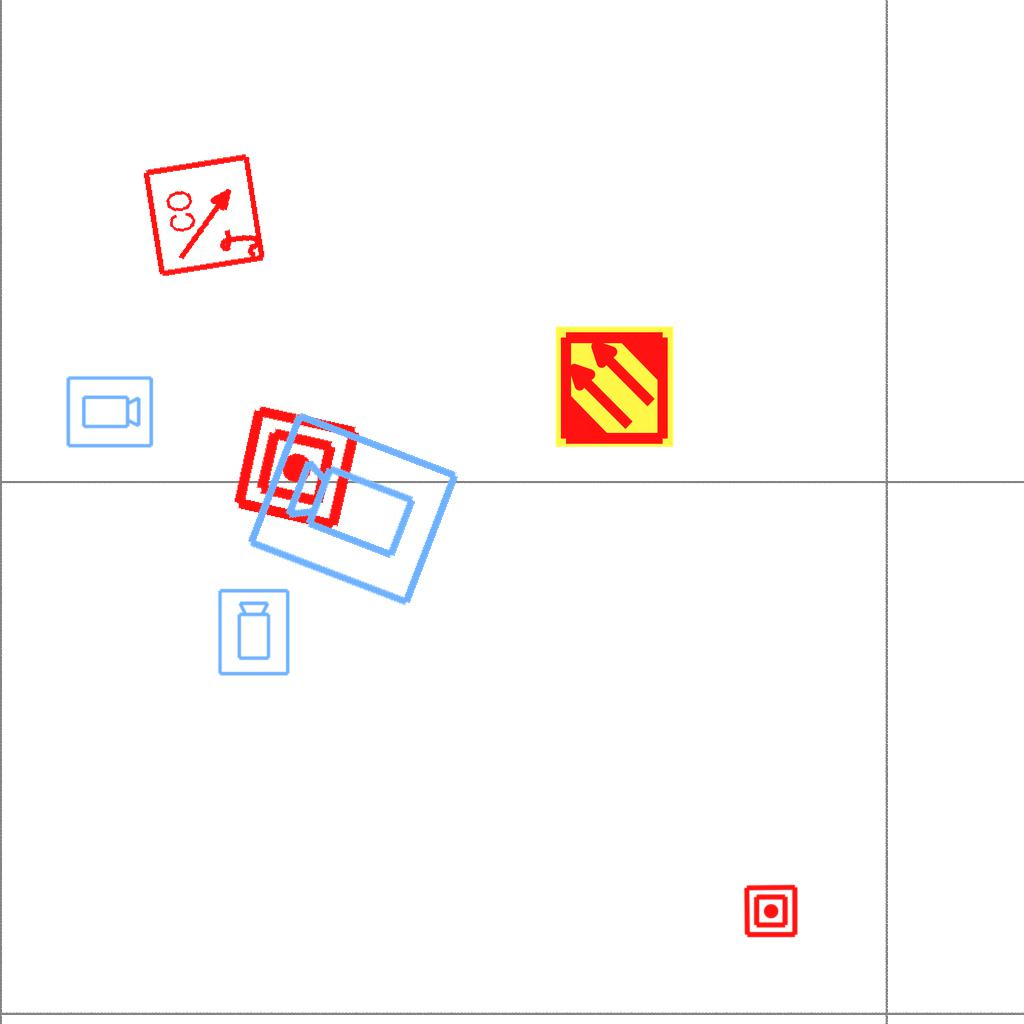ASR_Ansaugrauchmelder: (552, 324, 677, 449)
KFO_Kamera_mit_Festobjektiv: (241, 403, 467, 613), (216, 587, 293, 678), (64, 374, 155, 451)
NAM-Nichtautomatischer_Melder: (228, 399, 365, 536), (743, 883, 799, 939)
ROA_Rauchmelder_optisch_mit_Signalgeber_(Sockelsirene): (140, 149, 271, 280)
